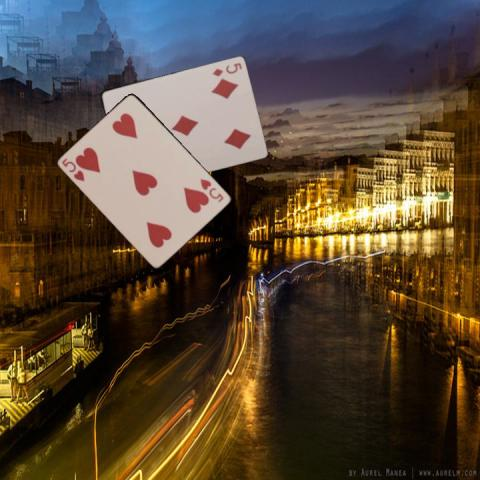5d: (210, 59, 244, 77)
5h: (198, 175, 226, 204), (59, 155, 86, 183)
